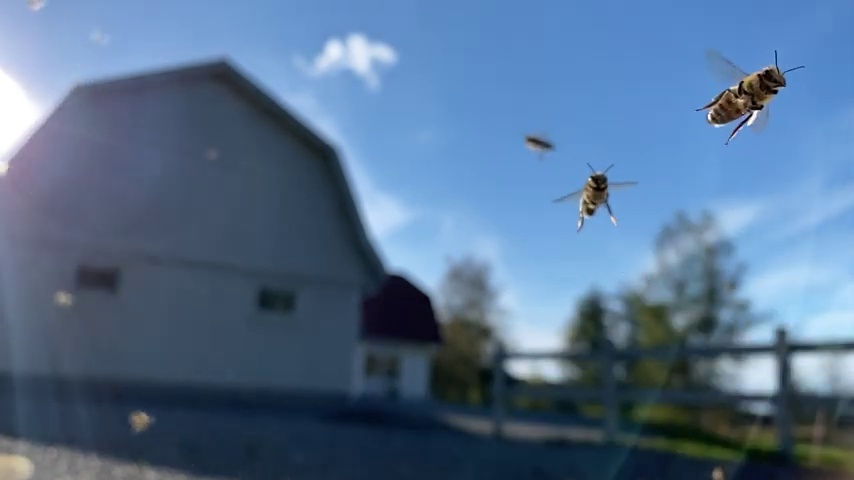insect: (692, 46, 807, 145), (545, 161, 637, 230), (520, 130, 558, 159)
